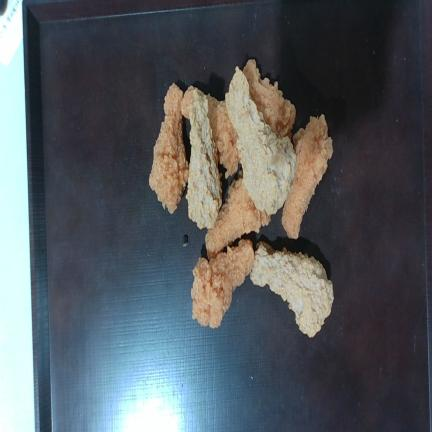chicken: (225, 67, 296, 215), (250, 242, 333, 337), (282, 115, 332, 238), (191, 239, 254, 328), (149, 83, 189, 213), (186, 89, 221, 229)
